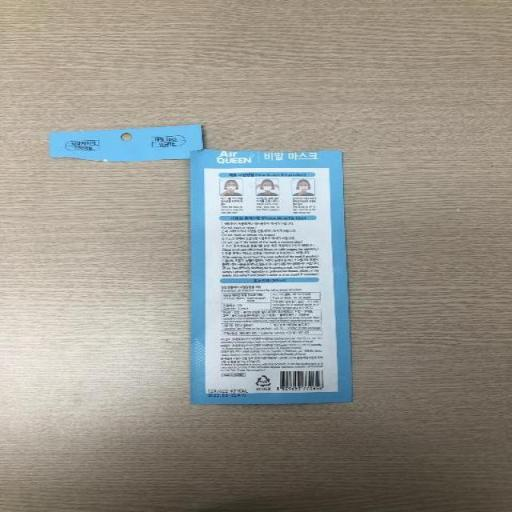plastic-bag: (185, 148, 348, 407), (43, 122, 209, 160)
